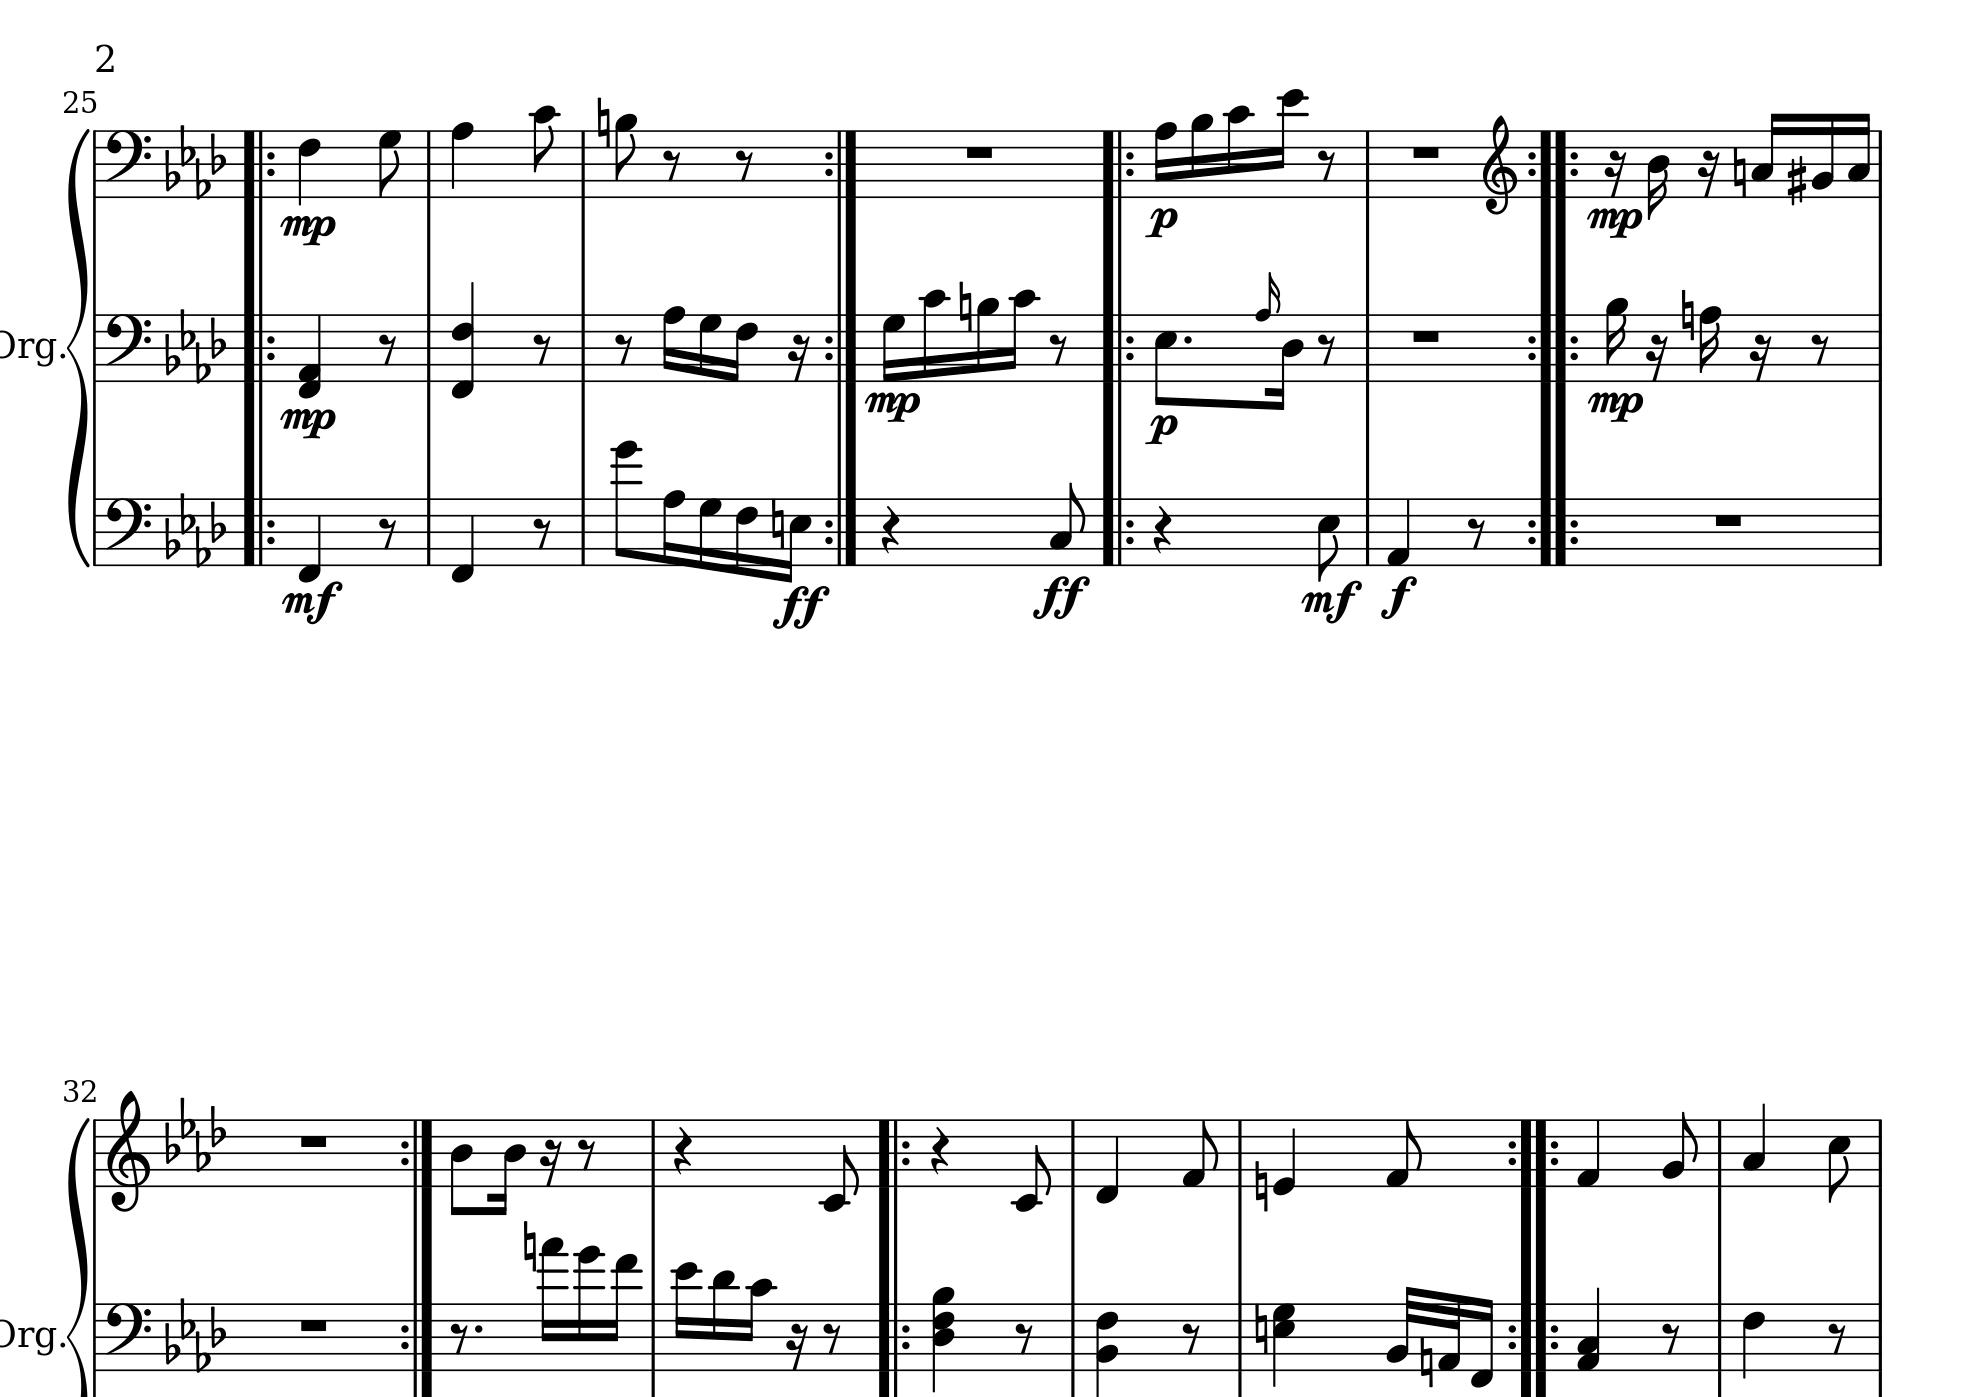16_-1: (1468, 1296, 1495, 1389)
16_10: (1002, 287, 1039, 386), (742, 1278, 774, 1371), (1225, 103, 1253, 200), (921, 287, 949, 384)
16_11: (708, 1268, 736, 1371)
16_12: (1268, 88, 1306, 200), (671, 1261, 700, 1371)
16_13: (606, 1252, 640, 1371)
16_14: (573, 1246, 603, 1371)
16_15: (537, 1237, 565, 1370)
16_2: (1811, 110, 1835, 200)
16_3: (1751, 110, 1782, 200), (1846, 110, 1872, 200)
16_4: (1265, 313, 1305, 413), (488, 1116, 528, 1216), (1645, 127, 1671, 221)
16_5: (782, 497, 812, 584)
16_6: (727, 311, 757, 384), (733, 496, 757, 578)
16_7: (695, 494, 723, 575), (695, 311, 723, 384), (880, 311, 906, 383)
16_8: (661, 488, 686, 568), (1152, 119, 1178, 198), (661, 304, 686, 383), (1696, 305, 1722, 383)
16_9: (974, 293, 999, 384), (1188, 112, 1214, 200), (1603, 295, 1628, 383)
2: (94, 41, 115, 73), (79, 1076, 98, 1104), (60, 89, 80, 113)
3: (60, 1076, 79, 1104)
32_1: (1436, 1290, 1463, 1374)
32_2: (1383, 1285, 1417, 1374)
4_-1: (296, 494, 324, 584), (449, 494, 476, 584), (1093, 1117, 1120, 1206)
4_-1_1: (296, 314, 324, 399)
4_-1_6: (451, 281, 478, 401)
4_0: (1271, 1117, 1299, 1197)
4_1: (1575, 1117, 1603, 1188), (1386, 496, 1411, 565)
4_1_3: (1575, 1287, 1601, 1373)
4_2_6: (1095, 1300, 1119, 1397)
4_3: (1742, 1102, 1767, 1187)
4_5_7: (1271, 1302, 1297, 1389)
4_6: (1740, 1300, 1766, 1380), (296, 129, 322, 206)
4_8: (449, 119, 475, 200)
4_th: (928, 1284, 957, 1391)
5: (80, 88, 97, 113)
8_-2: (819, 1116, 860, 1213), (1011, 1117, 1052, 1213)
8_1: (1179, 1117, 1219, 1188), (1383, 1117, 1423, 1188)
8_10: (532, 104, 561, 200)
8_14: (609, 440, 643, 565)
8_2: (1662, 1110, 1698, 1187)
8_3: (1048, 479, 1087, 567)
8_4: (449, 1117, 475, 1216)
8_5: (1152, 311, 1178, 407), (1314, 496, 1343, 581), (1825, 1117, 1851, 1203)
8_7: (376, 129, 402, 198)
8_9: (612, 112, 638, 201)
A_F: (163, 487, 225, 565), (165, 1095, 227, 1172), (165, 122, 225, 200), (163, 305, 224, 383), (165, 1296, 225, 1373)
Brace: (65, 125, 89, 567), (65, 1114, 91, 1397)
Fclef: (104, 311, 153, 384), (104, 496, 153, 568), (104, 129, 153, 200), (104, 1300, 151, 1371)
Gclef: (104, 1089, 150, 1213), (1482, 112, 1518, 215)
LeftRepeatSign: (872, 1302, 913, 1371), (239, 311, 277, 383), (398, 1303, 437, 1371), (1098, 311, 1135, 381), (240, 129, 277, 198), (1099, 129, 1135, 197), (240, 497, 277, 565), (1101, 497, 1137, 565)
Natural: (957, 280, 974, 336), (1731, 147, 1748, 200), (1418, 1335, 1435, 1388), (1680, 287, 1695, 343), (522, 1219, 537, 1275), (1253, 1158, 1268, 1213), (1253, 1303, 1268, 1358), (596, 97, 611, 150), (770, 497, 785, 550)
Rests1: (296, 1131, 331, 1151), (1711, 510, 1745, 529), (962, 142, 996, 160), (1409, 142, 1444, 160), (1408, 327, 1442, 345), (296, 1315, 330, 1333)
Rests16: (1696, 148, 1720, 198), (786, 333, 810, 383), (1645, 333, 1669, 383), (1748, 333, 1772, 383), (785, 1321, 809, 1371), (1603, 148, 1627, 197), (540, 1137, 562, 1188)
Rests4: (671, 1125, 694, 1176), (928, 1125, 951, 1176), (880, 503, 901, 555), (1151, 503, 1172, 555)
Rests8: (376, 331, 399, 366), (531, 331, 553, 366), (1660, 1320, 1683, 1355), (376, 516, 399, 549), (1465, 516, 1488, 549), (1179, 1321, 1202, 1355), (733, 147, 754, 181), (1315, 147, 1336, 181), (612, 331, 633, 366), (1048, 331, 1069, 366), (1315, 331, 1336, 366), (448, 1320, 469, 1355), (821, 1320, 842, 1355), (576, 1135, 596, 1172), (531, 516, 552, 549), (1014, 1321, 1036, 1355), (1826, 1321, 1847, 1355), (661, 148, 680, 181), (1810, 331, 1829, 361)
RightAndLeftRepeatSign: (1525, 311, 1580, 383), (1504, 1119, 1562, 1185), (1506, 1302, 1562, 1368), (1525, 129, 1580, 197), (1525, 497, 1580, 565)
RightRepeatSign: (872, 1119, 915, 1185), (822, 129, 860, 198), (822, 313, 860, 383), (398, 1119, 435, 1187), (824, 497, 860, 565)
Sharp: (1787, 154, 1807, 207)
Single_barline: (1063, 1119, 1082, 1187), (1063, 1302, 1082, 1370), (1358, 130, 1377, 197), (419, 314, 438, 381), (420, 130, 438, 198), (1231, 1117, 1249, 1185), (1710, 1119, 1728, 1185), (1231, 1303, 1249, 1370), (1359, 314, 1377, 379), (1870, 314, 1888, 379), (1870, 1303, 1888, 1368), (1872, 1117, 1888, 1187), (1872, 497, 1888, 565), (1711, 1302, 1728, 1370), (575, 130, 591, 197), (575, 313, 591, 379), (420, 497, 437, 564), (575, 497, 591, 564), (1359, 497, 1376, 564), (644, 1303, 661, 1370), (1873, 129, 1888, 197), (88, 1117, 103, 1185), (646, 1119, 661, 1185), (89, 130, 103, 197), (89, 314, 103, 381), (89, 497, 103, 564), (89, 1303, 103, 1368)
dot: (1182, 333, 1194, 346)
f: (1380, 575, 1418, 620)
ff: (1030, 575, 1092, 621), (770, 584, 830, 630)
mf: (1299, 579, 1361, 627), (281, 581, 343, 627)
mp: (860, 389, 922, 428), (275, 212, 337, 249), (1584, 389, 1645, 426), (277, 405, 339, 441), (1583, 204, 1643, 240)
p: (1144, 411, 1179, 448), (1144, 206, 1179, 240)
